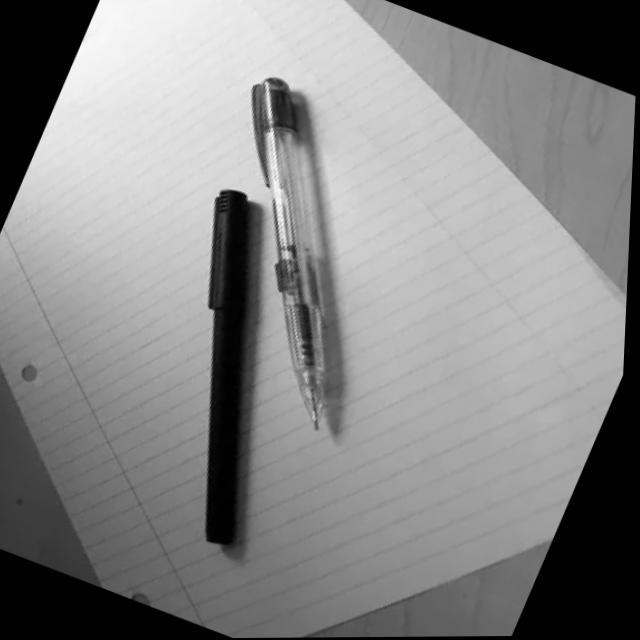pencil: (245, 70, 343, 439), (195, 171, 265, 561)
